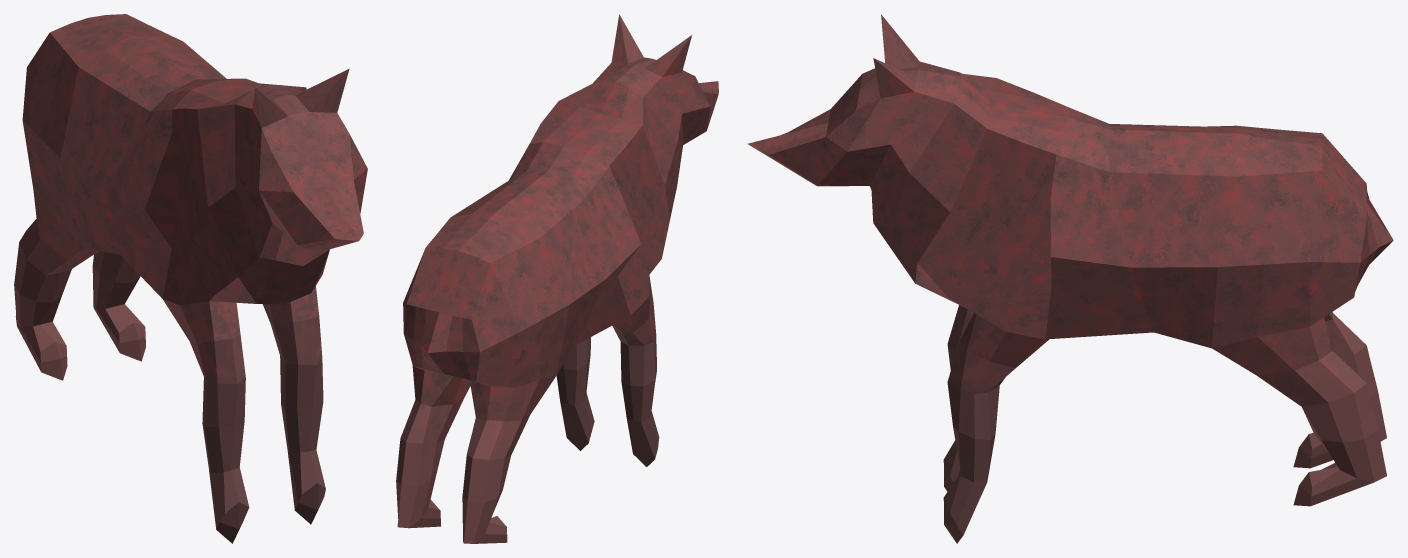
The model's file is piesblend_000005.obj.
3 views of the same model, side by side, from view 1: azimuth 30°, elevation 25°; view 2: azimuth 150°, elevation 25°; view 3: azimuth 270°, elevation 25° (orthographic). The views are drawn at different scales.
Parts seen in each view (by area): view 1: Cube; view 2: Cube; view 3: Cube.
Part boxes in pixels (x1,y1,x2,y2): Cube: [14, 14, 367, 543]; Cube: [396, 14, 718, 543]; Cube: [747, 14, 1393, 543].
Size of the model in its own units: 2.56 by 7.45 by 9.01.
1 material, 1 textured.
